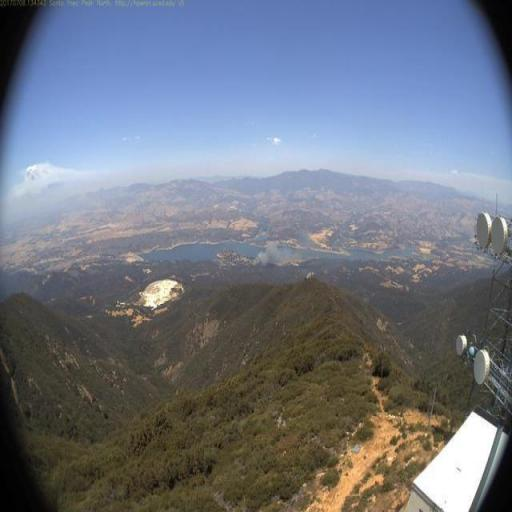smoke: (246, 234, 298, 269)
